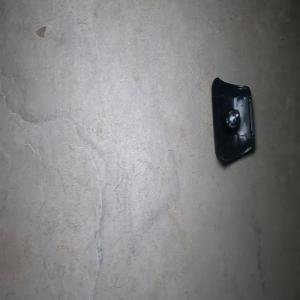LuggagePart: (210, 75, 255, 167)
